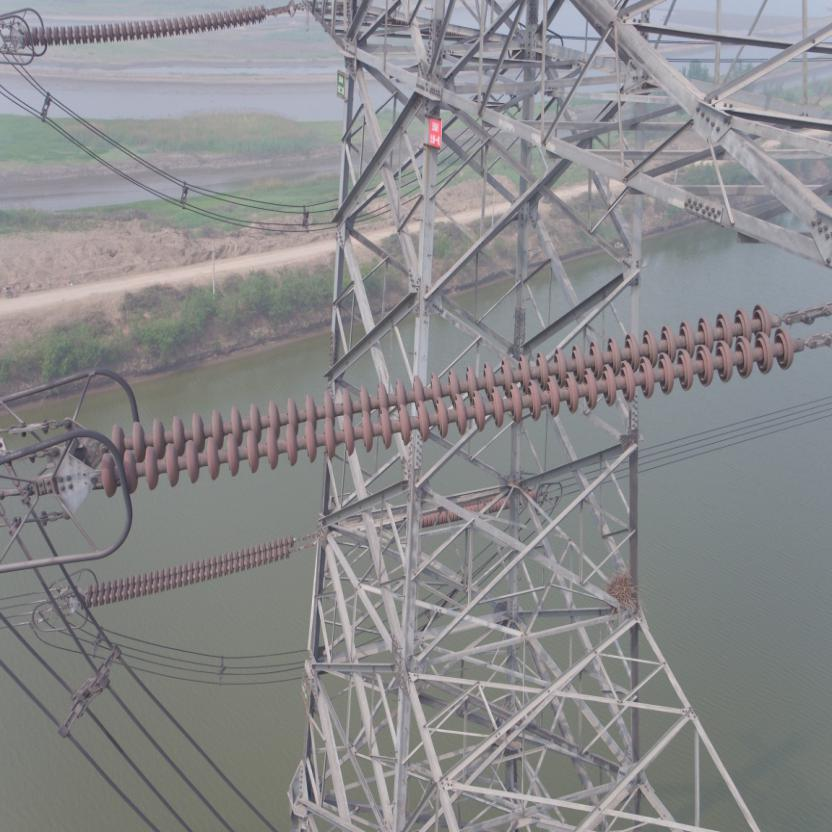insulator: (87, 297, 832, 500), (79, 528, 304, 609), (13, 0, 286, 49)
